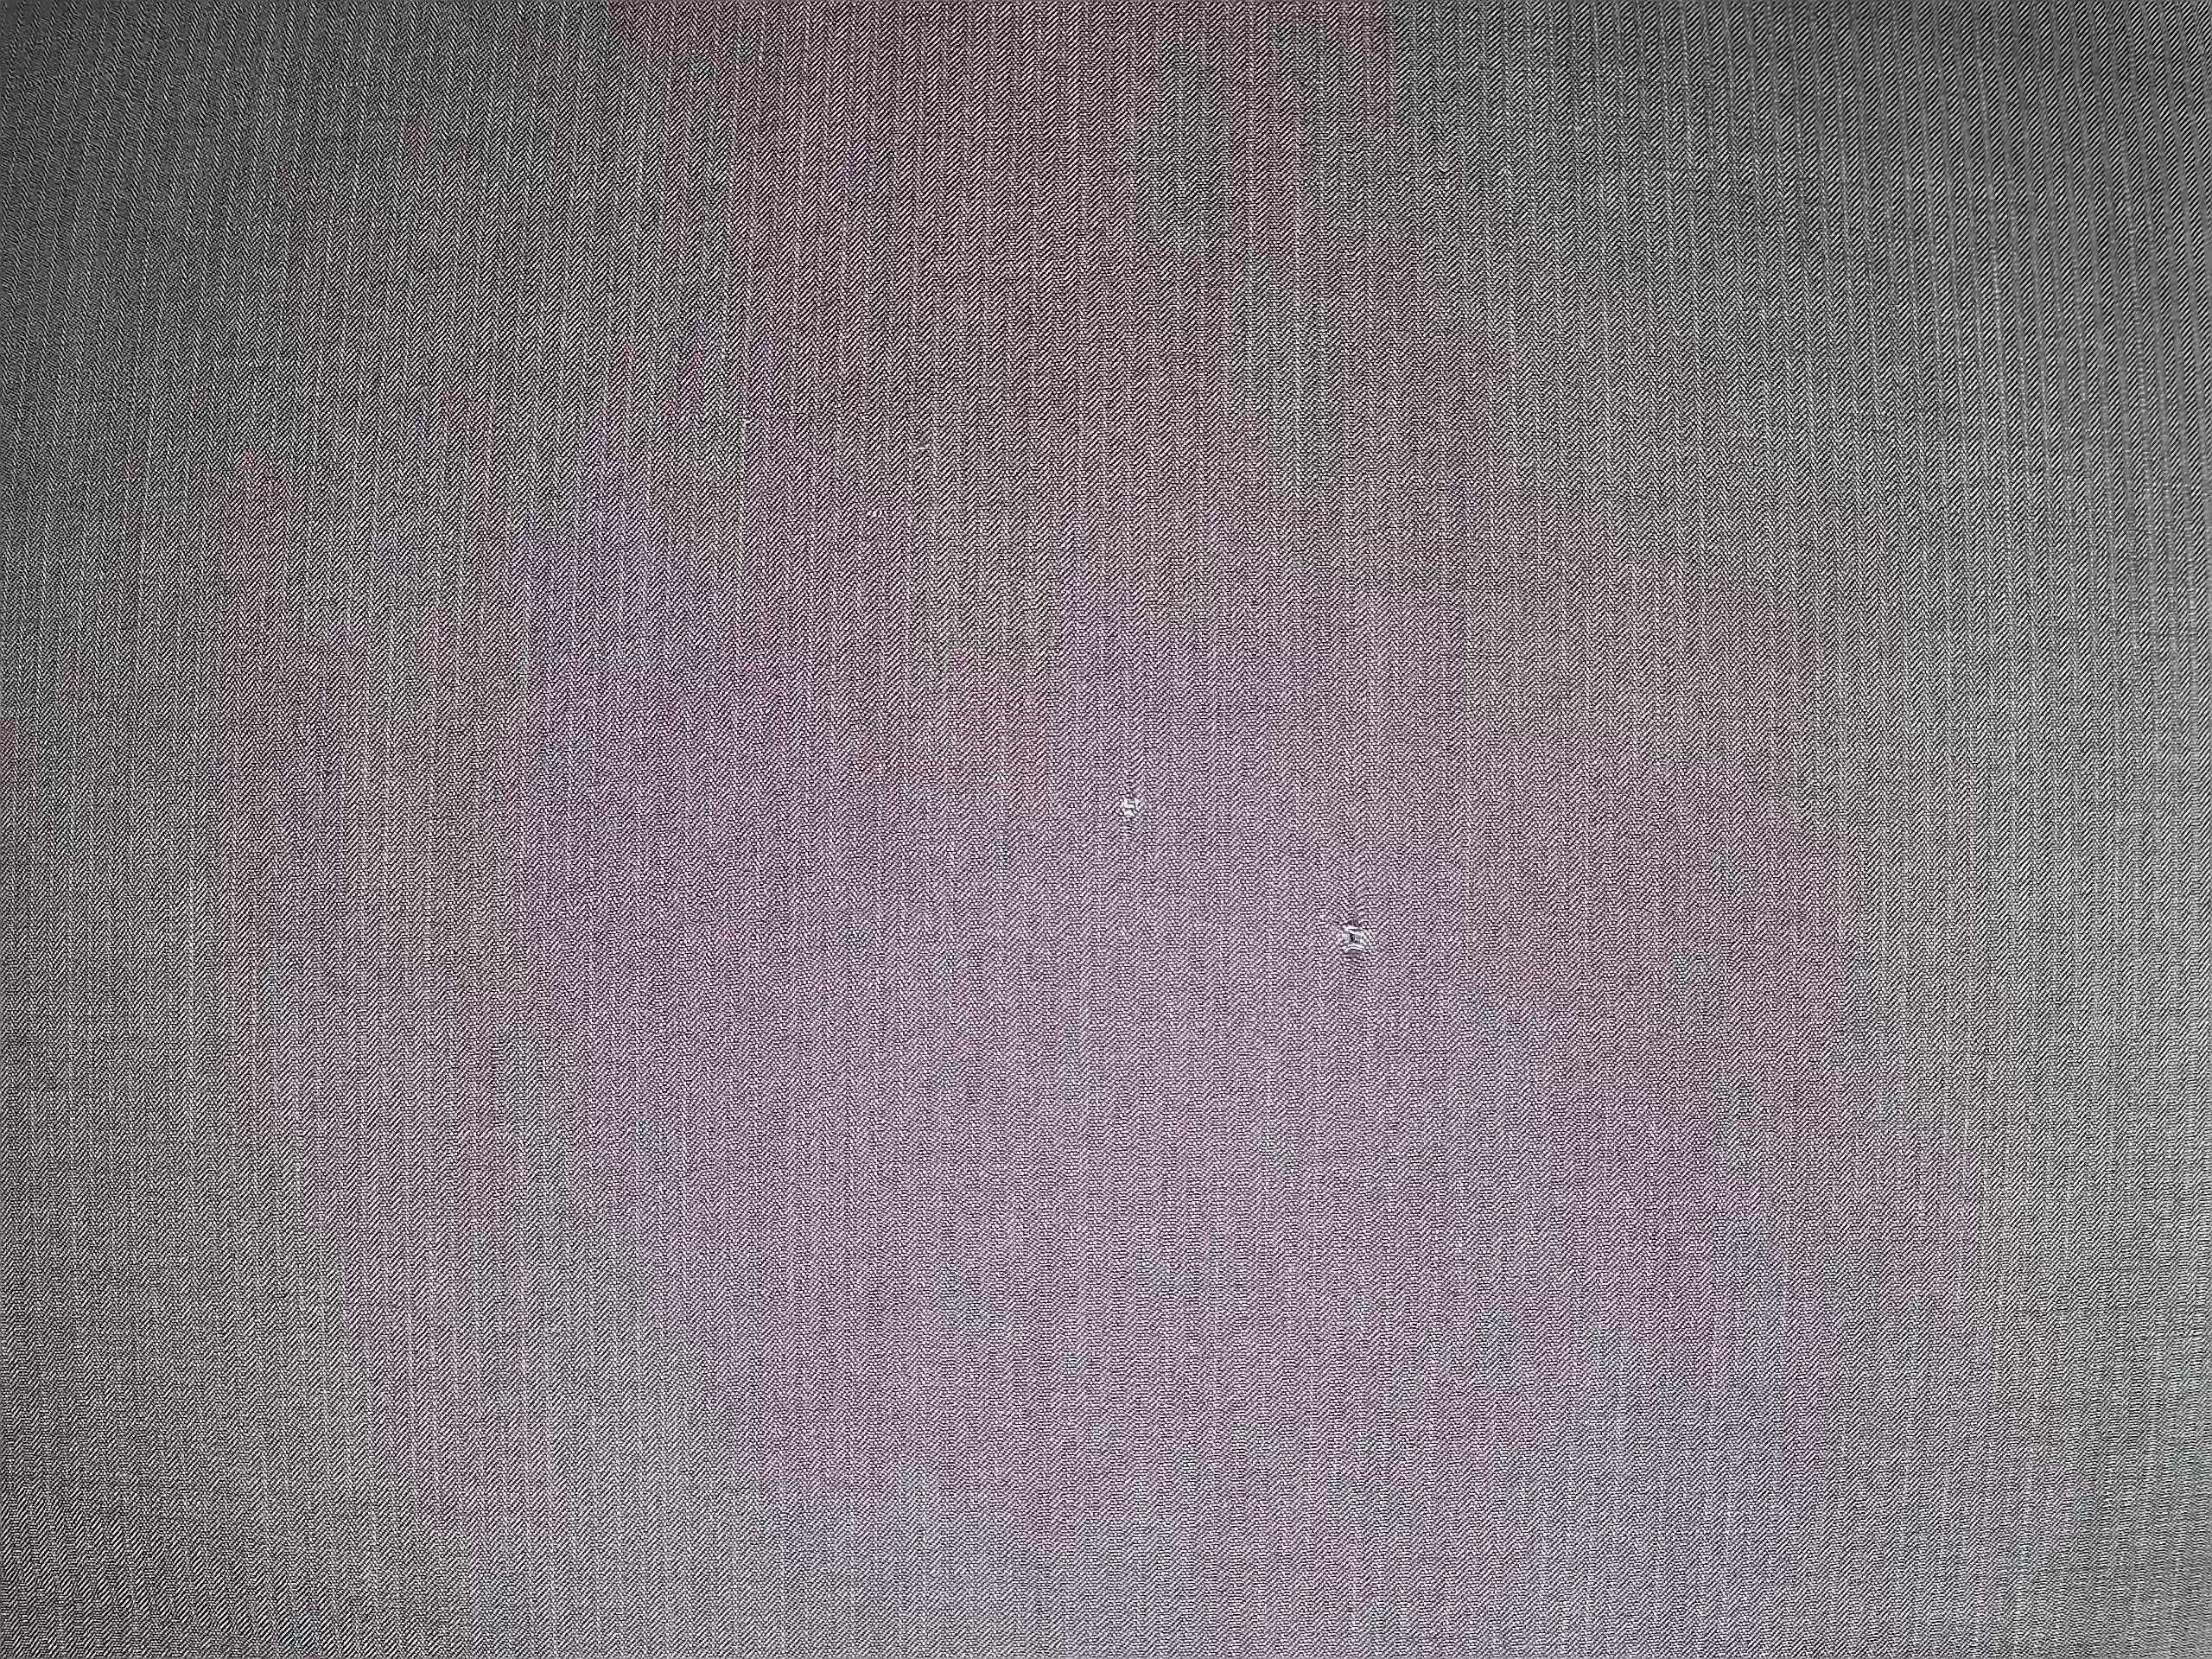rubbing-hole: (1324, 894, 1386, 985), (1109, 782, 1148, 826)
